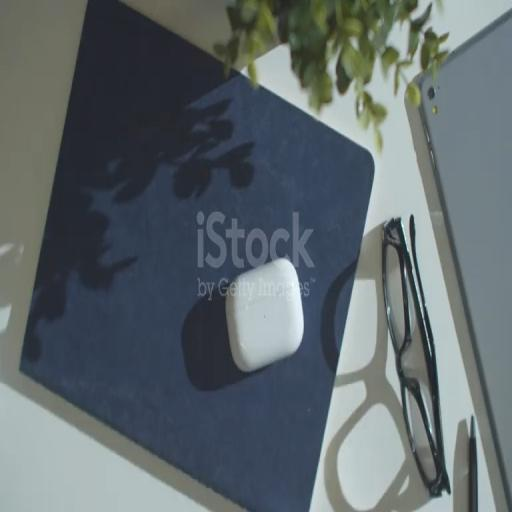earphone: (218, 258, 308, 376)
